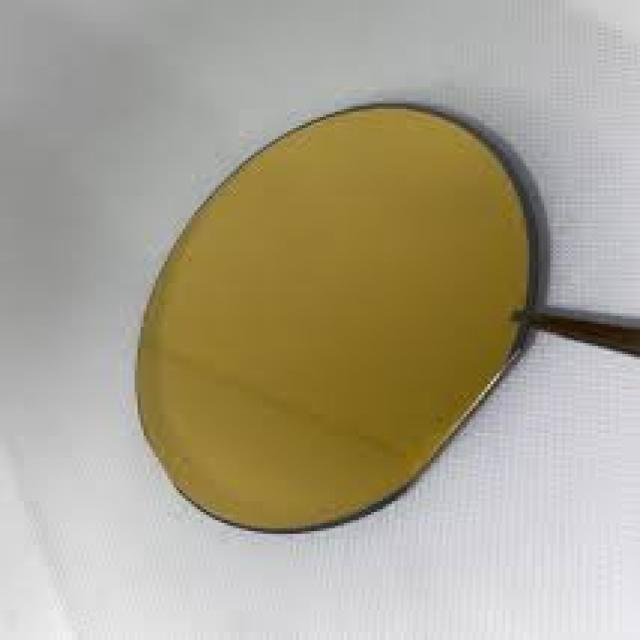Wafer: (135, 101, 592, 537)
